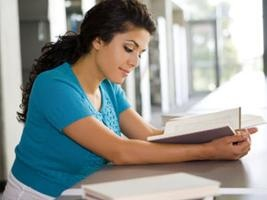person without safety: (52, 1, 169, 159)
